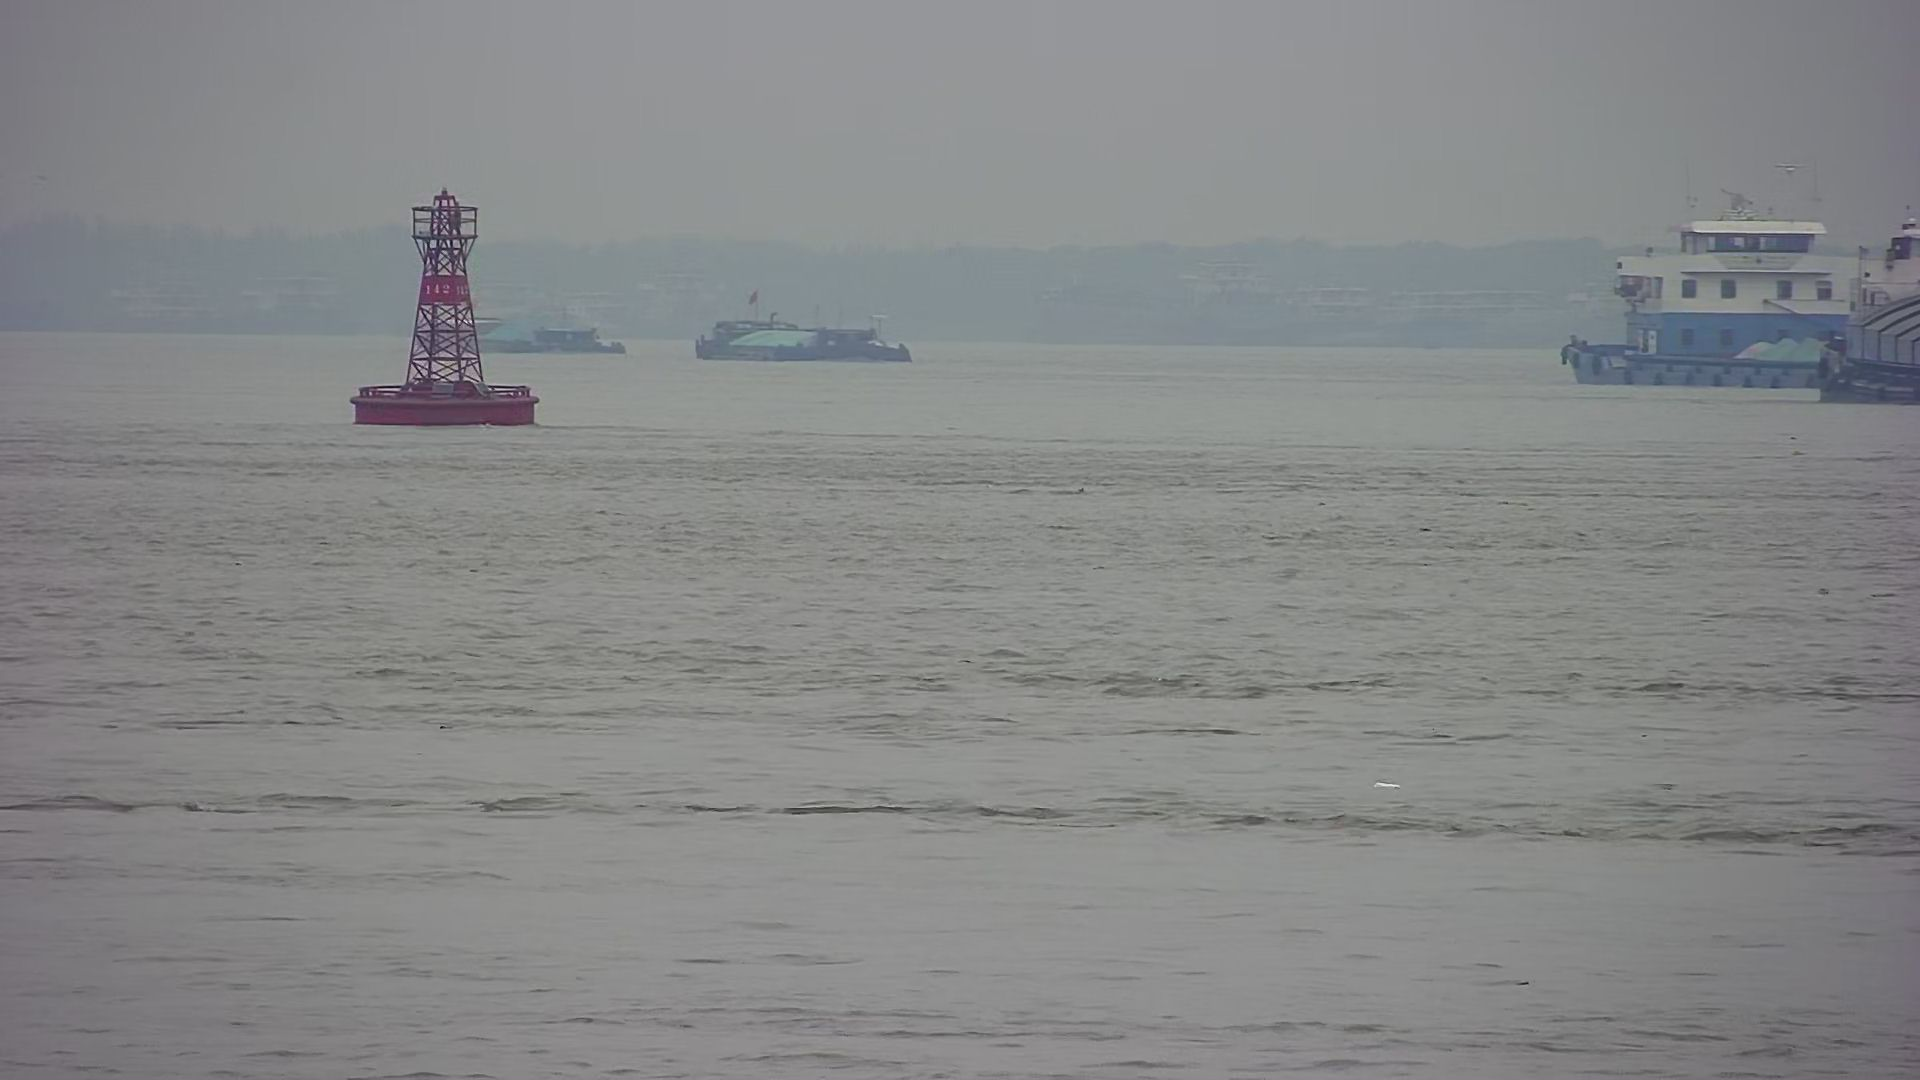platform: (345, 181, 542, 427)
ship: (1547, 204, 1865, 396), (1829, 193, 1920, 411), (688, 309, 915, 365), (414, 320, 629, 359)
